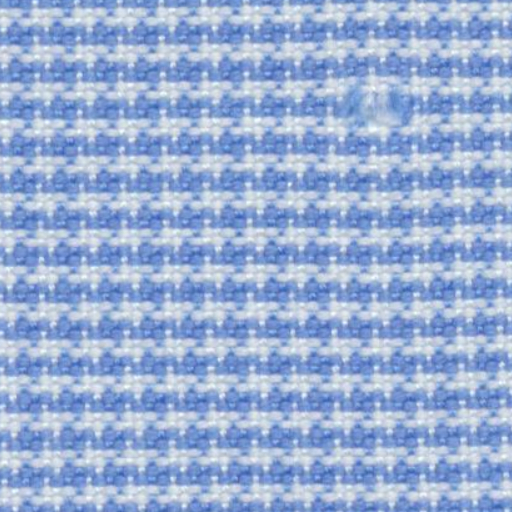PoDong: (324, 58, 430, 162)
